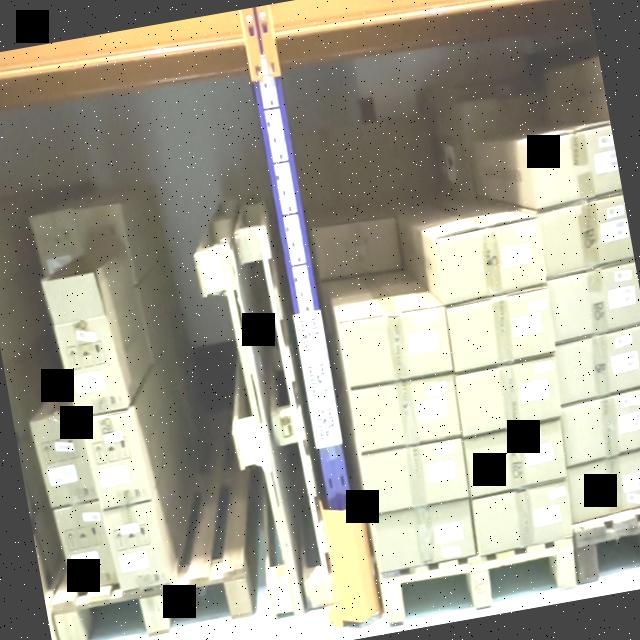box: (340, 306, 451, 386), (352, 374, 461, 451), (454, 357, 562, 434), (361, 440, 471, 514), (436, 224, 546, 298), (447, 292, 554, 368), (371, 498, 476, 572), (471, 482, 574, 556), (464, 424, 566, 492), (538, 198, 634, 270), (551, 326, 640, 402), (29, 413, 98, 508), (548, 265, 640, 336), (61, 314, 126, 414), (531, 130, 621, 202), (86, 412, 148, 509), (103, 499, 169, 589), (54, 501, 119, 587), (562, 392, 640, 459), (314, 218, 400, 275), (568, 455, 640, 513)
